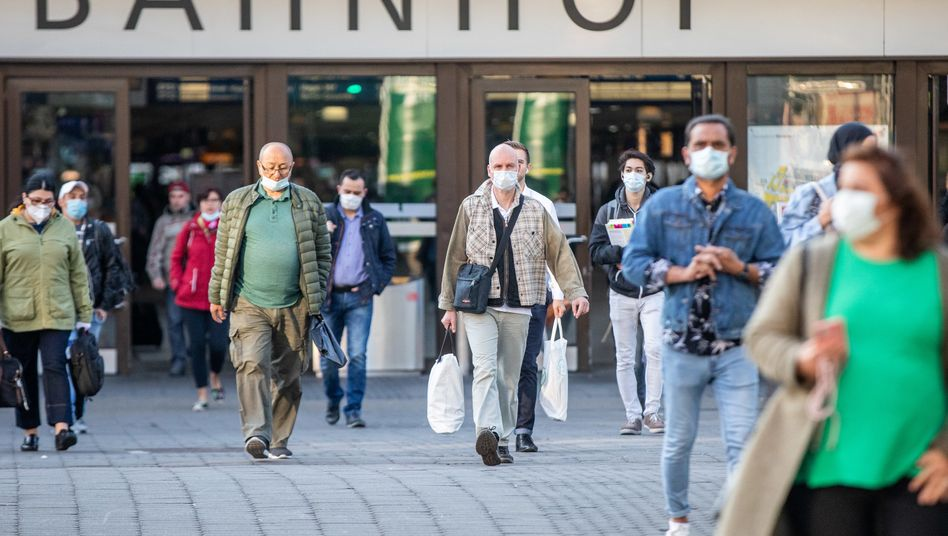mask_weared_incorrect: (262, 158, 291, 188), (201, 198, 220, 220)
with_mask: (830, 179, 884, 236), (691, 135, 729, 170), (490, 158, 521, 190), (27, 193, 53, 221), (341, 183, 364, 210), (624, 165, 646, 186), (66, 193, 89, 211)
without_mask: (169, 193, 186, 210)
